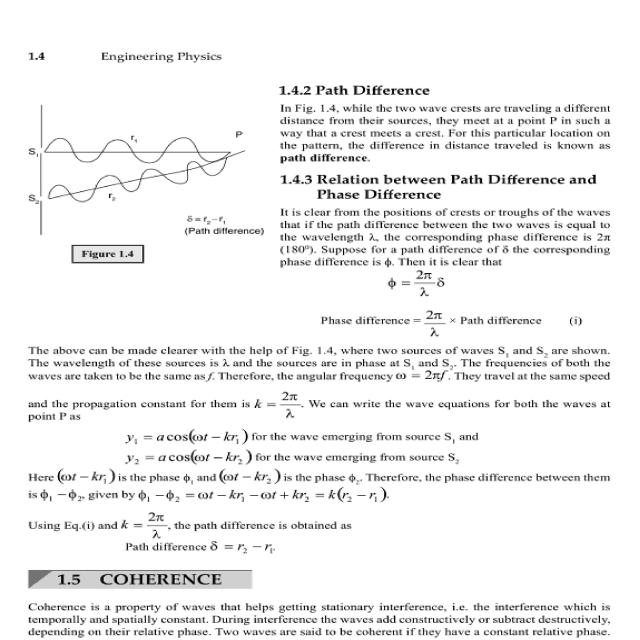diagram: (14, 90, 280, 292)
